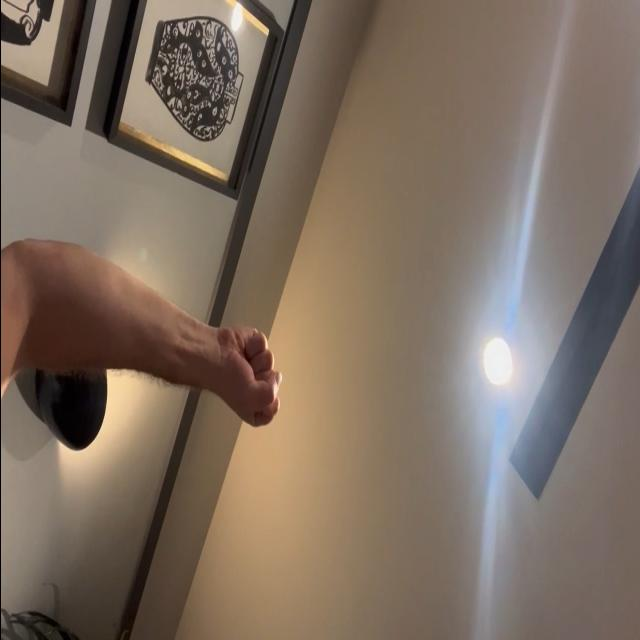Rock: (218, 322, 281, 432)
